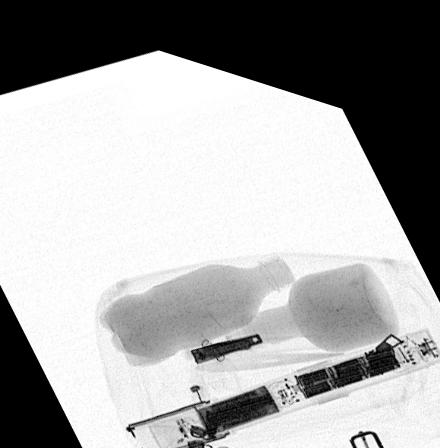Baton: (122, 299, 440, 448)
